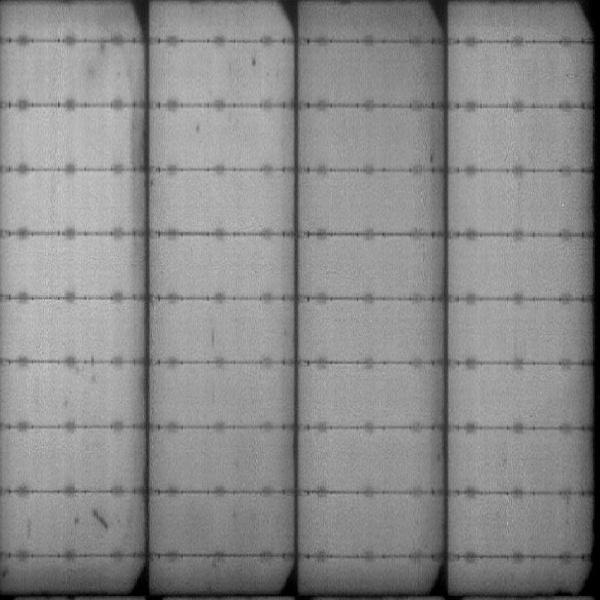scratch: (90, 506, 114, 536)
